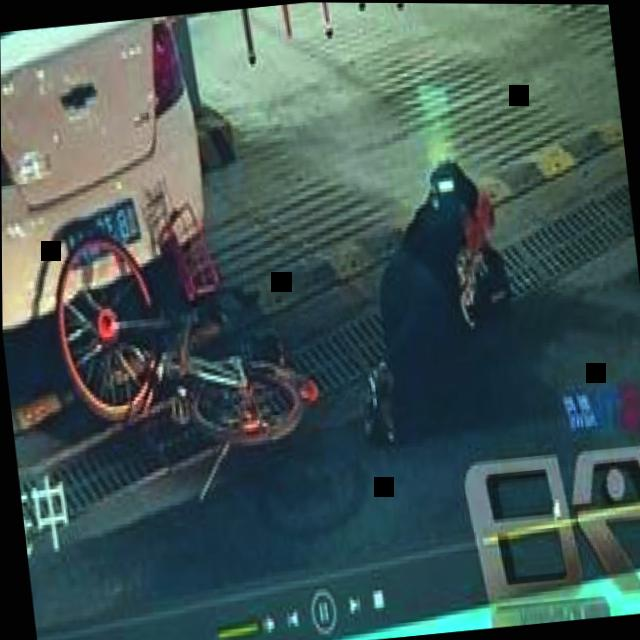Fall-Detected: (323, 137, 544, 446)
